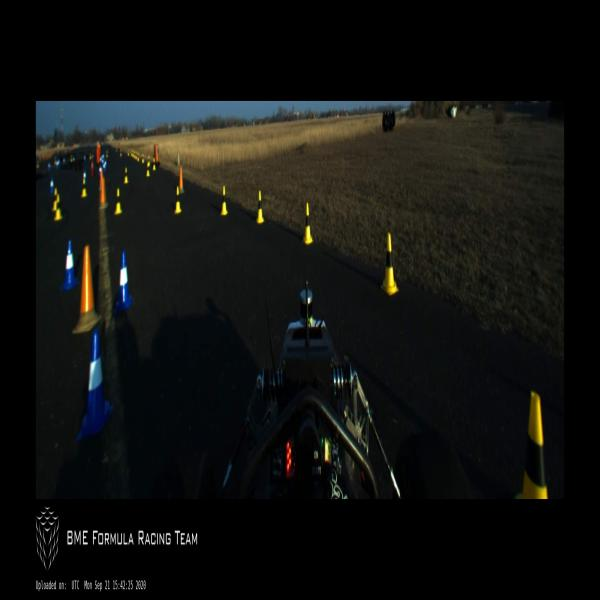blue_cone: (78, 329, 113, 438), (114, 250, 134, 312), (61, 240, 80, 290), (49, 177, 54, 194), (83, 168, 87, 182), (104, 159, 107, 170), (48, 162, 51, 172), (99, 164, 101, 177), (103, 162, 105, 173)
unknown_cone: (72, 245, 102, 333), (98, 177, 109, 210), (179, 167, 184, 193), (98, 168, 103, 190), (155, 145, 159, 164), (177, 151, 180, 166)
yellow_cone: (515, 392, 548, 499), (380, 232, 398, 296), (302, 202, 314, 245), (256, 190, 264, 224), (220, 186, 228, 216), (174, 186, 182, 214), (114, 187, 122, 215), (54, 194, 62, 220), (52, 188, 57, 212), (81, 178, 87, 198), (124, 167, 128, 184), (146, 164, 150, 177), (152, 158, 156, 170), (142, 154, 144, 163), (137, 153, 139, 161), (148, 157, 150, 165)
